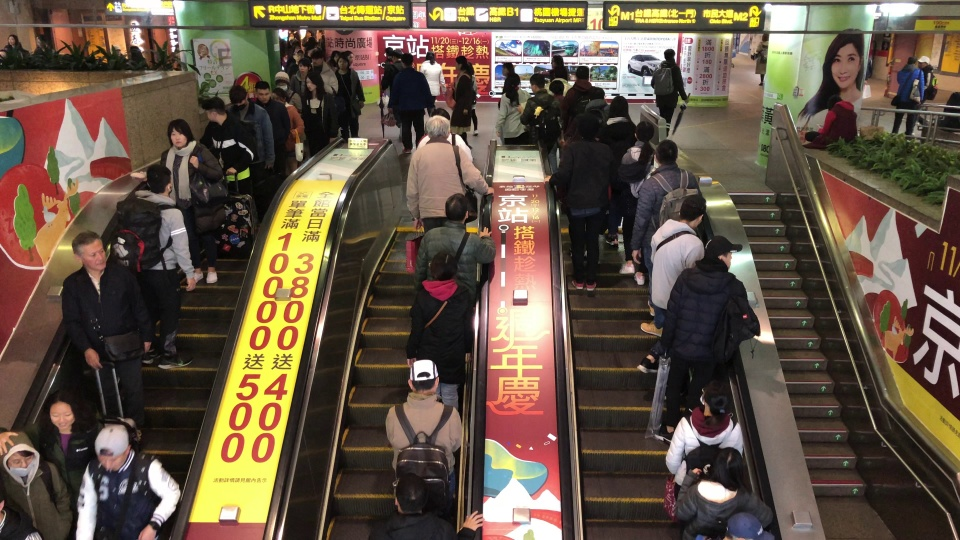person_head: (1, 431, 40, 485), (94, 422, 132, 472), (391, 472, 431, 513), (71, 230, 108, 271), (698, 380, 734, 419), (705, 235, 743, 271), (723, 510, 768, 540), (405, 359, 440, 395), (143, 164, 173, 199), (677, 194, 708, 227), (714, 446, 744, 479), (427, 251, 459, 281), (164, 119, 195, 148), (711, 469, 742, 497), (48, 400, 76, 429), (579, 110, 606, 140), (202, 96, 227, 125), (445, 192, 468, 222), (424, 116, 451, 141), (653, 140, 678, 166), (633, 117, 655, 143), (228, 85, 249, 109), (609, 95, 630, 118), (565, 112, 586, 134), (305, 73, 325, 94), (253, 81, 271, 103), (527, 72, 545, 92), (429, 107, 451, 123), (273, 71, 291, 90), (308, 47, 324, 66), (271, 88, 288, 105), (588, 86, 605, 101), (453, 55, 467, 73), (825, 96, 843, 110), (506, 73, 521, 89), (548, 79, 564, 94), (575, 65, 590, 81), (400, 53, 414, 69), (341, 50, 355, 65), (297, 59, 311, 73), (918, 53, 931, 68), (662, 49, 676, 62), (464, 62, 476, 77), (501, 62, 514, 75), (904, 56, 918, 68), (549, 56, 564, 67), (553, 67, 568, 78), (292, 49, 304, 61), (6, 34, 19, 45), (35, 36, 48, 47), (337, 58, 349, 69), (424, 51, 435, 62), (393, 49, 403, 61), (110, 46, 121, 56), (384, 47, 394, 58), (759, 31, 770, 41), (330, 51, 340, 61)
person_vbox: (654, 234, 761, 444), (109, 163, 199, 371), (59, 229, 142, 417), (633, 139, 700, 333), (75, 422, 185, 540), (636, 193, 708, 372), (404, 249, 481, 411), (545, 110, 609, 291), (385, 356, 467, 497), (158, 118, 225, 282), (405, 114, 495, 233), (0, 428, 75, 540), (663, 378, 747, 476), (362, 472, 483, 540), (412, 191, 495, 290), (617, 115, 661, 285), (677, 468, 768, 537), (198, 96, 258, 194), (33, 397, 96, 488), (383, 52, 433, 153), (226, 84, 276, 180), (606, 94, 637, 247), (517, 71, 561, 172), (249, 81, 290, 176), (675, 445, 745, 498), (651, 48, 692, 137), (416, 106, 475, 162), (803, 96, 858, 151), (892, 54, 926, 141), (380, 50, 414, 136), (303, 72, 337, 155), (270, 88, 304, 171), (494, 72, 533, 144), (333, 59, 367, 141), (690, 510, 770, 540), (0, 488, 43, 540), (452, 53, 475, 149), (550, 110, 586, 166), (458, 60, 481, 138), (915, 53, 939, 125), (421, 50, 447, 113), (308, 46, 339, 97), (272, 70, 304, 116), (749, 30, 773, 87), (566, 64, 590, 107), (496, 61, 515, 109), (543, 66, 573, 95), (585, 85, 609, 115), (4, 34, 30, 61), (290, 59, 309, 92), (289, 48, 309, 74), (548, 55, 568, 79), (548, 80, 567, 103), (32, 35, 51, 57), (325, 49, 343, 72), (129, 46, 146, 64)
